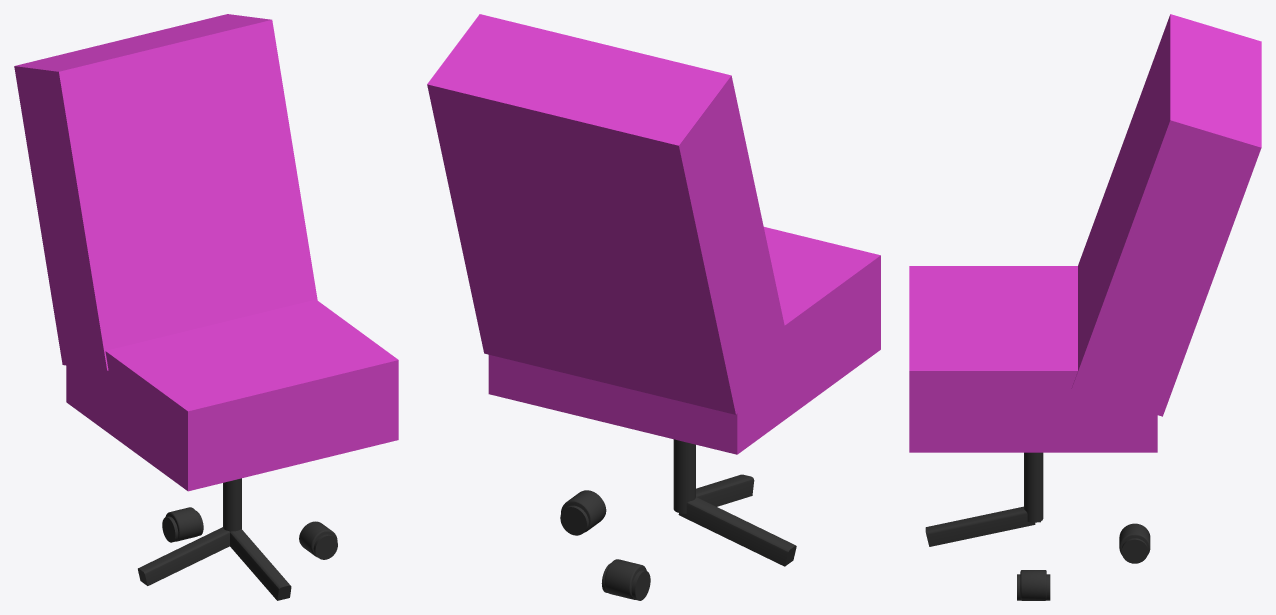
File: OfficeChair.glb
3 renders of one model, left to right at view 1: azimuth 30°, elevation 25°; view 2: azimuth 150°, elevation 25°; view 3: azimuth 270°, elevation 25°, orthographic. The views are drawn at different scales.
Visible parts, largest first — view 1: Cube, Cube.001, Cube.004, Cube.003, Cylinder, Cylinder.003, Cylinder.001, Cylinder.002; view 2: Cube, Cube.001, Cube.004, Cylinder, Cube.003, Cylinder.003, Cylinder.001, Cylinder.002; view 3: Cube, Cube.001, Cube.003, Cylinder, Cylinder.001, Cylinder.004, Cylinder.003.
Part boxes in pixels (x1,y1,x2,y2): Cube: (14, 14, 317, 370); Cube.001: (66, 299, 398, 491); Cube.004: (138, 527, 229, 585); Cube.003: (230, 529, 291, 600); Cylinder: (223, 478, 241, 531); Cylinder.003: (165, 507, 200, 541); Cylinder.001: (299, 521, 337, 557); Cylinder.002: (299, 532, 337, 559); Cube: (427, 14, 788, 414); Cube.001: (488, 227, 880, 454); Cube.004: (678, 497, 796, 566); Cylinder: (673, 439, 695, 513); Cube.003: (696, 474, 754, 506); Cylinder.003: (604, 559, 646, 599); Cylinder.001: (561, 490, 605, 532); Cylinder.002: (560, 501, 606, 535); Cube: (1071, 14, 1261, 416); Cube.001: (909, 266, 1157, 452); Cube.003: (925, 506, 1035, 546); Cylinder: (1024, 452, 1043, 522); Cylinder.001: (1020, 570, 1046, 600); Cylinder.004: (1121, 538, 1148, 563); Cylinder.003: (1119, 523, 1150, 555).
Bounding box in the file's own units: 0.629 × 1.35 × 0.8807.
